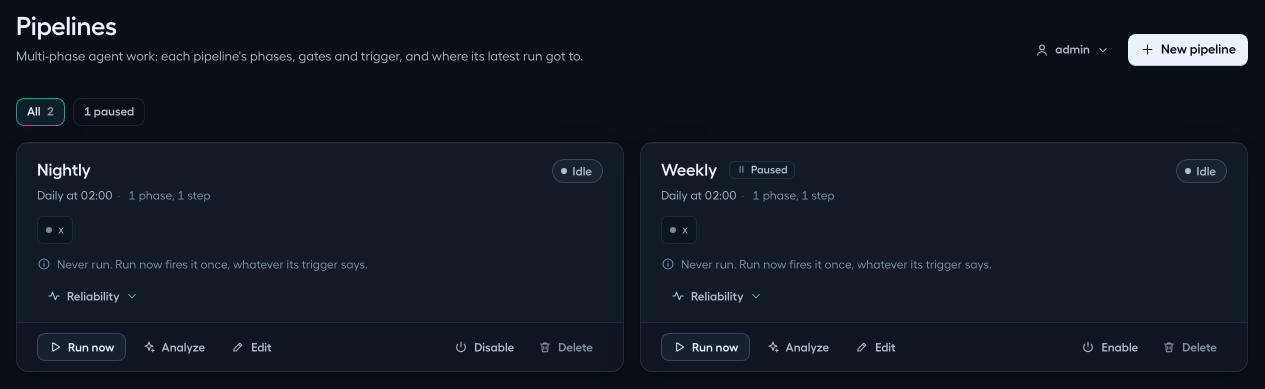
Test: Pipelines tab › says which count is filtering the list
This screenshot has width=1265, height=389.
What coordinates should you click on to do the following:
click the button "1 paused"
I would click on:
 (109, 112)
Its box is [73,98,145,126].
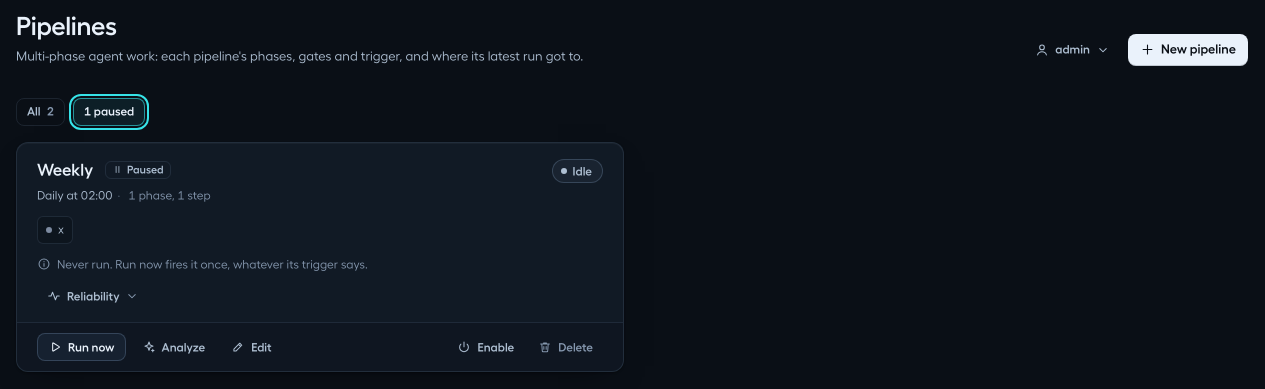
Check: the heading "Nightly" is gone
